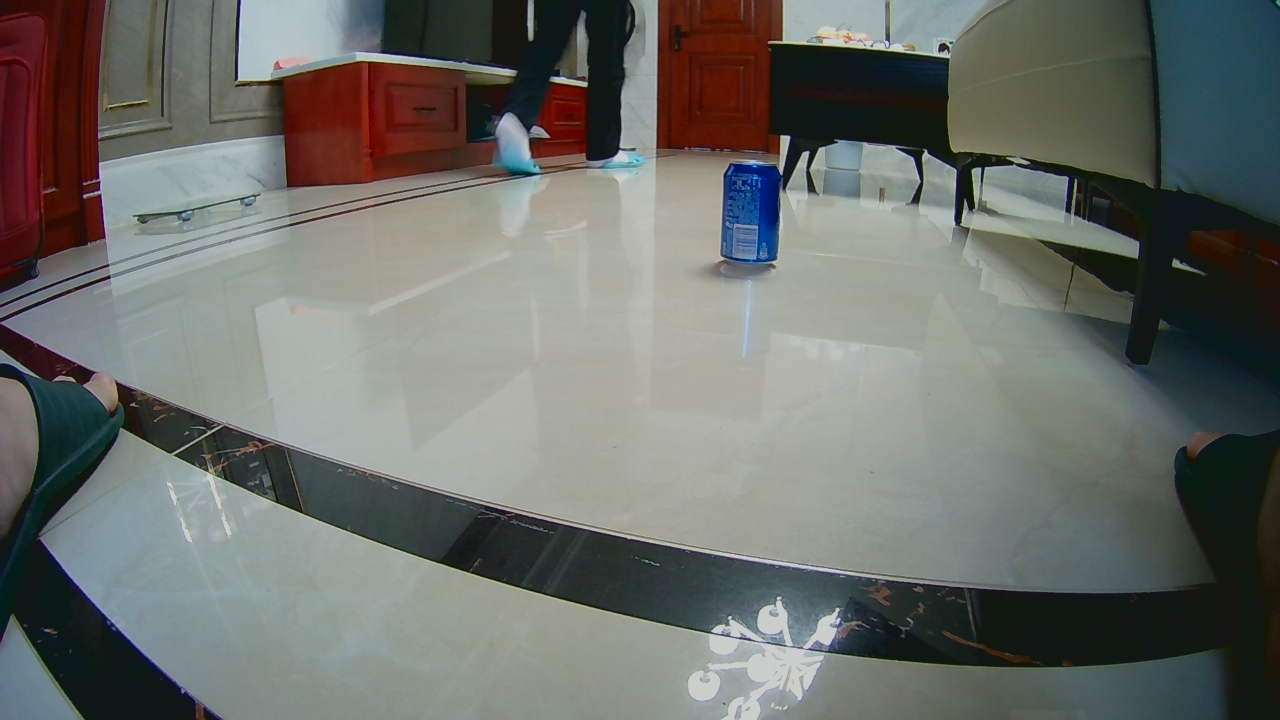pessi: (722, 161, 780, 267)
